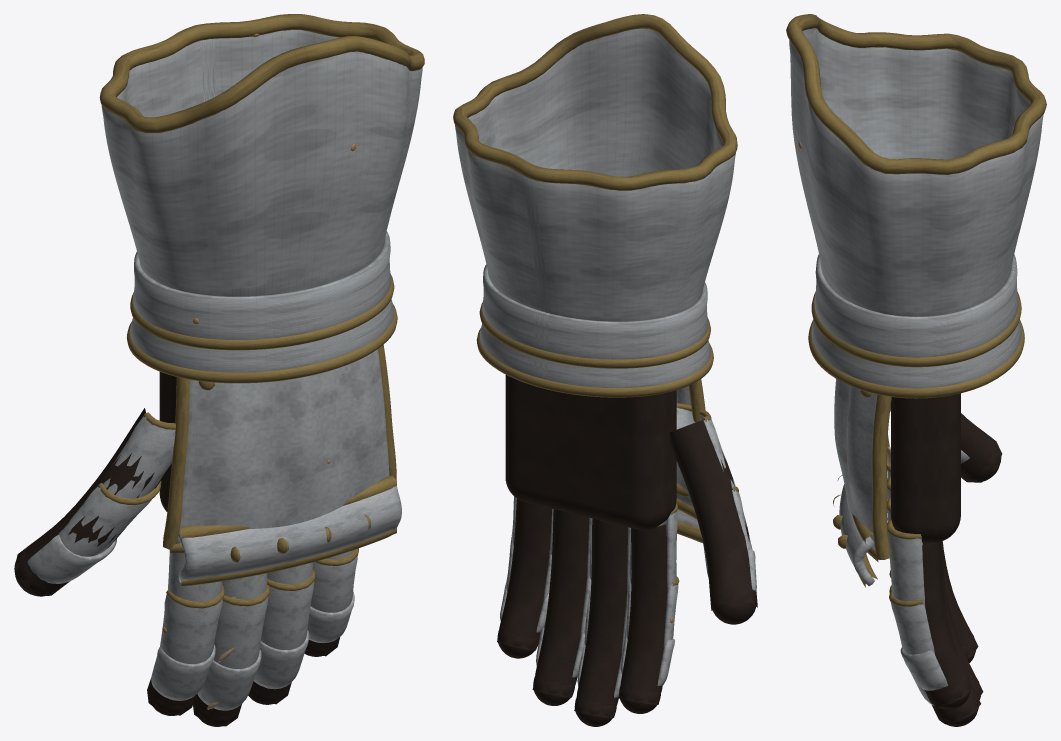
The picture shows the model from 3 angles, left to right: view 1: azimuth 30°, elevation 25°; view 2: azimuth 150°, elevation 25°; view 3: azimuth 270°, elevation 25°; orthographic projection. The views are drawn at different scales.
Parts seen in each view (by area): view 1: polished fluted plate, aged alloy edge, tanned leather; view 2: polished fluted plate, tanned leather, aged alloy edge; view 3: polished fluted plate, aged alloy edge, tanned leather.
Part boxes in pixels (box(x1,y1,x2,y2)): polished fluted plate: box(27, 29, 422, 710); aged alloy edge: box(98, 14, 424, 608); tanned leather: box(14, 372, 339, 726); polished fluted plate: box(455, 28, 756, 697); tanned leather: box(497, 375, 757, 726); aged alloy edge: box(453, 14, 738, 585); polished fluted plate: box(789, 28, 1043, 705); aged alloy edge: box(786, 14, 1046, 606); tanned leather: box(891, 393, 1002, 726).
Bounding box in the file's own units: 0.1666 × 0.3303 × 0.1116.
Materials: 5 (3 with a texture image).
